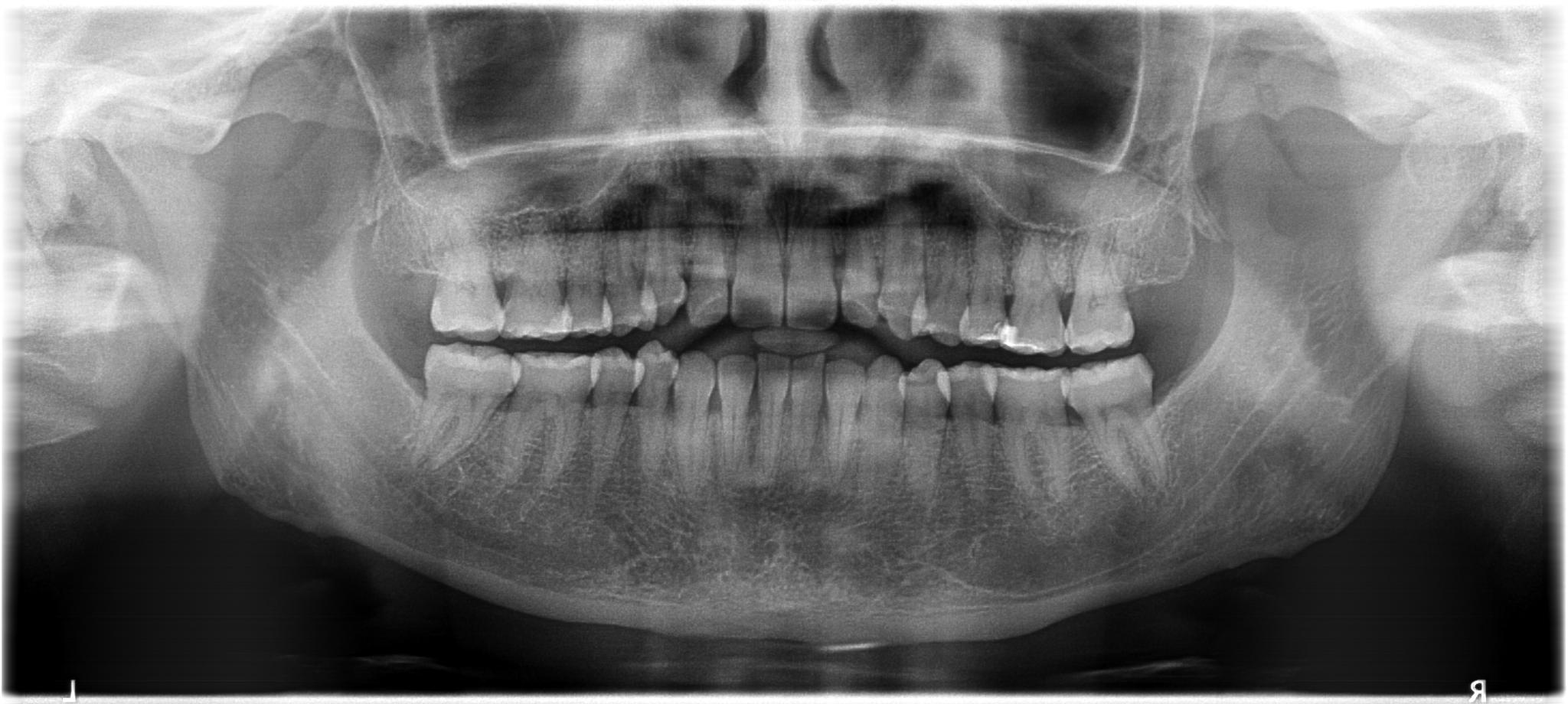Premolars: (541, 181, 1568, 544), (544, 176, 1568, 488), (512, 179, 1518, 473)
